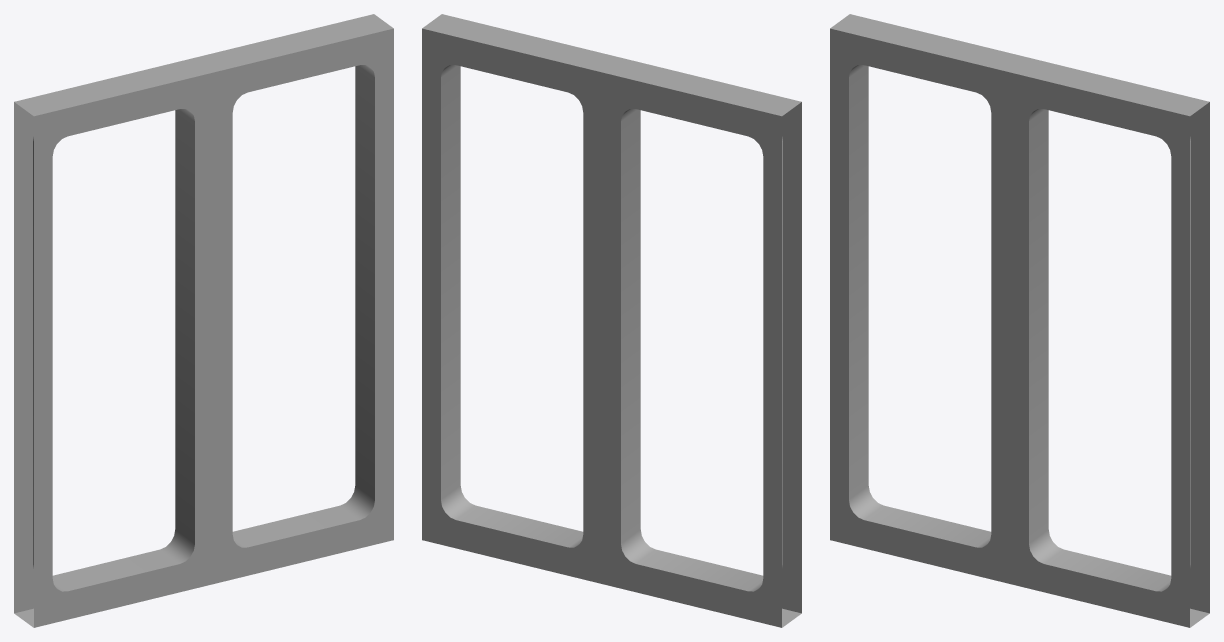
File: Fence B.fbx
3 views of the same model, side by side, from view 1: azimuth 30°, elevation 25°; view 2: azimuth 150°, elevation 25°; view 3: azimuth 330°, elevation 25° (orthographic).
Parts seen in each view (by area): view 1: Fence B; view 2: Fence B; view 3: Fence B.
Part boxes in pixels (bbox=[...]): Fence B: bbox=[14, 14, 393, 627]; Fence B: bbox=[422, 14, 801, 627]; Fence B: bbox=[830, 14, 1209, 627].
Size of the model in its own units: 75.67 by 103 by 7.22.
